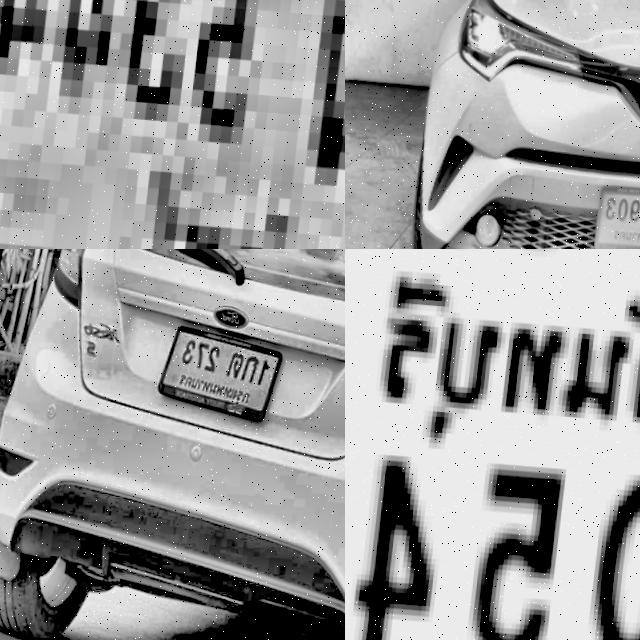license-plate: (345, 249, 640, 640), (0, 0, 345, 249), (148, 319, 289, 428), (587, 173, 640, 249)
